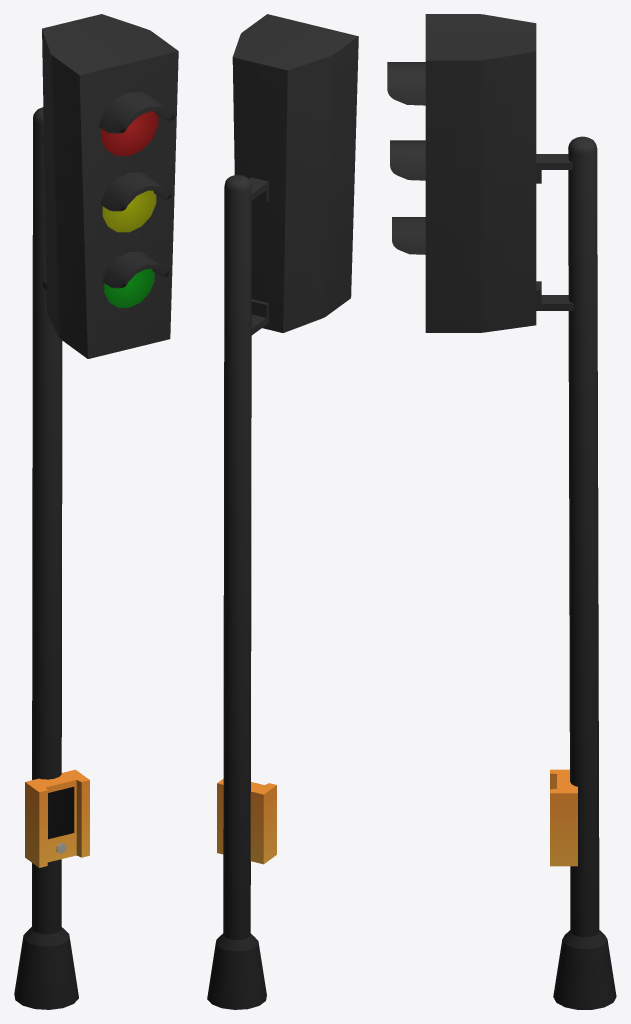
Rendered from Traffic_Light.glb.
3 views of the same model, side by side, from view 1: azimuth 30°, elevation 25°; view 2: azimuth 150°, elevation 25°; view 3: azimuth 270°, elevation 25° (orthographic). The views are drawn at different scales.
Visible parts, largest first — view 1: traffic_light; view 2: traffic_light; view 3: traffic_light.
Part boxes in pixels (bbox=[...]): traffic_light: bbox=[14, 14, 178, 1009]; traffic_light: bbox=[207, 14, 358, 1009]; traffic_light: bbox=[387, 14, 616, 1009].
Bounding box in the file's own units: 0.5225 × 5 × 1.08.
1 material, 1 textured.
